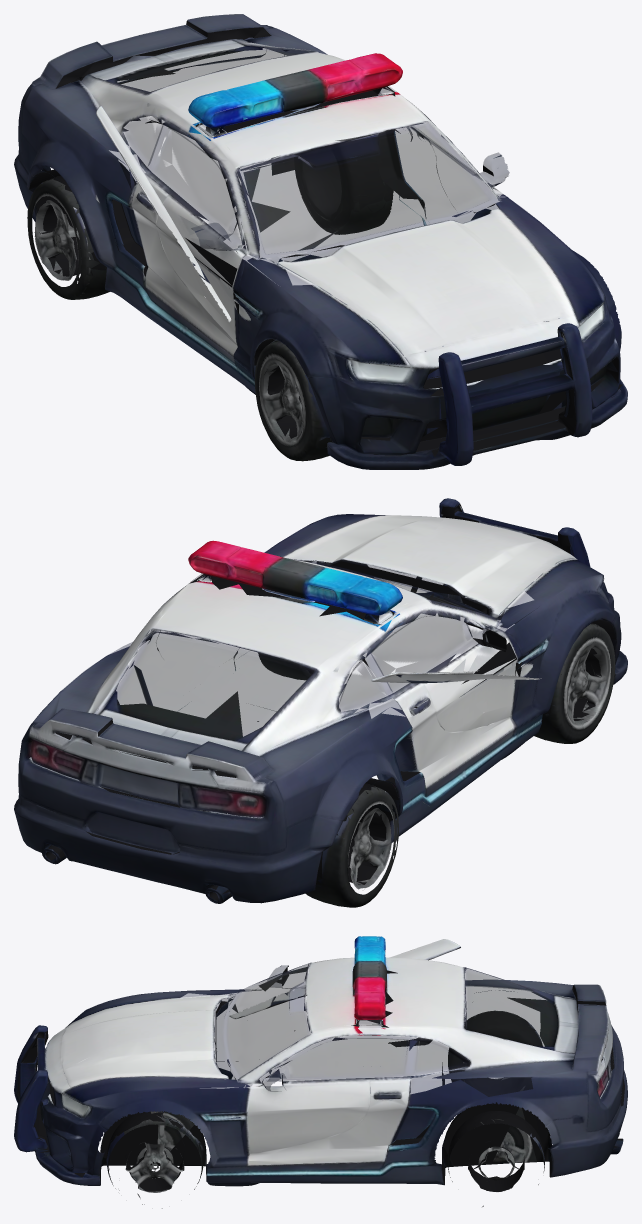
Rendered from police.glb.
3 renders of one model, top to bottom at view 1: azimuth 30°, elevation 25°; view 2: azimuth 150°, elevation 25°; view 3: azimuth 270°, elevation 25°, orthographic. The views are drawn at different scales.
Parts seen in each view (by area): view 1: body, glass, door_r, door_r_glass, wheel_rl, wheel_fr, wheel_rr, door_l_glass, door_l; view 2: body, door_r, glass, wheel_rr, wheel_fr, door_r_glass, wheel_fl, door_l; view 3: body, door_l, glass, door_l_glass, wheel_rl, wheel_fl, wheel_rr, door_r, door_r_glass.
Boxes of the visible parts, x1,y1,x2,y2 form: body: (14,14,627,469); glass: (109,47,529,285); door_r: (117,110,289,362); door_r_glass: (149,127,299,258); wheel_rl: (294,135,393,234); wheel_fr: (252,338,331,461); wheel_rr: (27,175,109,299); door_l_glass: (379,92,509,195); door_l: (372,86,506,225); body: (14,498,627,903); door_r: (345,591,530,812); glass: (61,559,533,736); wheel_rr: (305,783,398,907); wheel_fr: (517,612,615,743); door_r_glass: (367,598,512,694); wheel_fl: (258,560,337,680); door_l: (133,573,237,705); body: (14,936,627,1186); door_l: (249,1016,410,1171); glass: (181,968,545,1096); door_l_glass: (249,1021,409,1091); wheel_rl: (447,1102,544,1206); wheel_fl: (106,1111,207,1208); wheel_rr: (448,1010,542,1096); door_r: (249,950,410,1046); door_r_glass: (249,963,309,998).
Size of the model in its own units: 2.2 by 1.65 by 4.95.
Materials: 2 (2 with a texture image).
